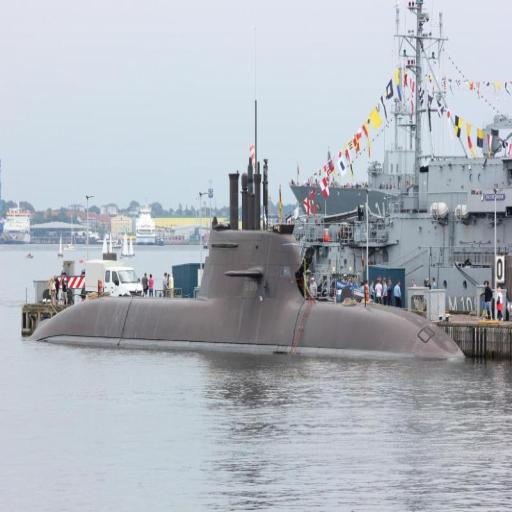submarine: (39, 149, 464, 347)
